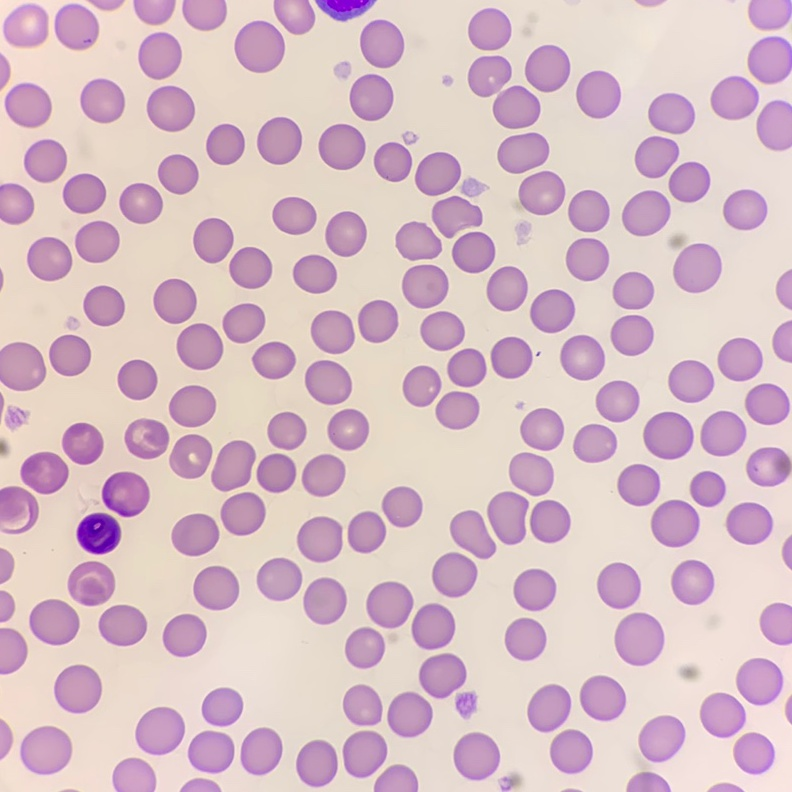RBC: (468, 56, 539, 128), (235, 21, 284, 72), (615, 613, 663, 665), (20, 726, 71, 774), (673, 243, 721, 292), (643, 412, 693, 459), (136, 707, 184, 754), (54, 665, 101, 712), (651, 500, 698, 546), (0, 342, 45, 390), (450, 510, 495, 558), (30, 599, 78, 644), (454, 732, 499, 780), (366, 581, 412, 627), (736, 658, 782, 704), (147, 86, 194, 131), (622, 191, 670, 235), (487, 492, 527, 544), (319, 124, 365, 169), (257, 117, 301, 164), (102, 472, 149, 516), (212, 441, 254, 490), (177, 324, 222, 369), (580, 675, 625, 720), (387, 692, 432, 737), (639, 716, 684, 761), (54, 3, 98, 49), (525, 45, 569, 91), (5, 83, 51, 127), (305, 360, 351, 404), (68, 561, 114, 605), (419, 653, 465, 697), (360, 20, 403, 67), (576, 71, 619, 118), (711, 76, 758, 119), (343, 730, 386, 777), (498, 133, 548, 173), (3, 3, 48, 47), (700, 411, 745, 455), (700, 693, 745, 737), (138, 32, 181, 78), (748, 37, 791, 83), (528, 684, 570, 731), (560, 335, 604, 379), (297, 517, 341, 561), (432, 552, 476, 596), (415, 152, 460, 195), (519, 171, 564, 214), (597, 563, 640, 608), (303, 578, 346, 623), (350, 74, 392, 120), (726, 502, 772, 544), (412, 603, 454, 649), (432, 197, 481, 236), (27, 237, 71, 280), (194, 566, 238, 609), (402, 265, 447, 307), (668, 360, 713, 402), (648, 93, 694, 134), (169, 385, 215, 426), (21, 452, 67, 493), (172, 514, 218, 555), (188, 731, 234, 772), (296, 740, 337, 786), (99, 605, 146, 645), (81, 79, 124, 122), (530, 290, 574, 332), (718, 338, 762, 380), (509, 453, 553, 495), (221, 492, 265, 534), (257, 558, 301, 600), (671, 560, 713, 604), (550, 729, 592, 773), (241, 728, 281, 774), (24, 139, 66, 182), (75, 221, 119, 262), (154, 279, 195, 323), (468, 8, 510, 50), (566, 238, 608, 280), (311, 311, 353, 353), (302, 454, 344, 496), (163, 614, 205, 656), (635, 136, 678, 177), (326, 212, 366, 256), (745, 384, 789, 424), (77, 513, 121, 553), (746, 447, 791, 486), (229, 247, 271, 288), (521, 408, 563, 449), (170, 435, 211, 477), (617, 464, 659, 505), (756, 101, 791, 150), (514, 569, 555, 610), (120, 183, 162, 223), (452, 232, 494, 272), (611, 315, 653, 355), (596, 381, 638, 421), (505, 618, 545, 660), (723, 190, 766, 229), (487, 267, 526, 310), (125, 419, 168, 458), (194, 218, 232, 262), (396, 222, 441, 259), (568, 190, 608, 231), (49, 335, 90, 375), (491, 337, 531, 378), (63, 174, 105, 213), (358, 300, 397, 342), (530, 500, 569, 542), (293, 255, 336, 293), (421, 312, 464, 350), (573, 424, 616, 462), (669, 162, 709, 202), (328, 409, 368, 449), (734, 733, 774, 773), (63, 423, 102, 464), (84, 286, 124, 325), (345, 627, 384, 667), (223, 304, 264, 342), (273, 197, 315, 234), (382, 487, 421, 526), (206, 124, 244, 164), (158, 155, 198, 193), (343, 685, 381, 725), (348, 511, 385, 552), (436, 392, 478, 428), (118, 360, 156, 399), (613, 272, 653, 309), (403, 366, 440, 406), (202, 688, 242, 725), (253, 342, 294, 378), (257, 454, 295, 492), (374, 142, 411, 181), (447, 349, 485, 386), (113, 758, 155, 791), (268, 412, 305, 449), (0, 183, 33, 224), (274, 0, 314, 33), (0, 487, 38, 521), (183, 0, 226, 30), (748, 0, 791, 30), (760, 603, 791, 644), (690, 471, 725, 506), (627, 763, 669, 791), (0, 628, 26, 673), (374, 764, 417, 791), (133, 0, 175, 24), (332, 0, 374, 21), (772, 321, 791, 361), (776, 271, 791, 308), (455, 692, 475, 717), (182, 778, 219, 791), (0, 591, 14, 621), (0, 721, 12, 756), (0, 550, 13, 581), (500, 772, 522, 790), (461, 179, 482, 195), (0, 56, 10, 86), (679, 665, 699, 680), (92, 0, 121, 10), (669, 233, 686, 249), (7, 411, 25, 426), (782, 538, 791, 566), (335, 62, 350, 78), (710, 783, 739, 791), (517, 223, 529, 235), (640, 0, 659, 6), (785, 700, 791, 719), (0, 439, 7, 455), (404, 133, 415, 142), (523, 25, 532, 35), (68, 319, 76, 327)
